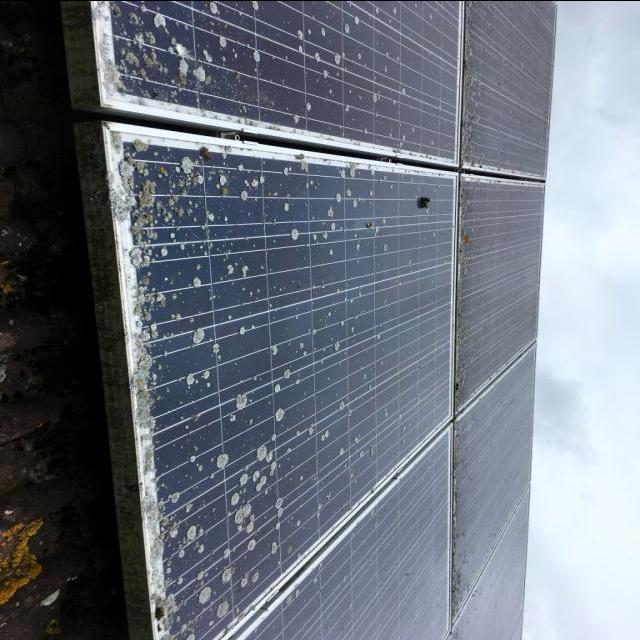soiled: (85, 3, 461, 640), (447, 3, 566, 640)
